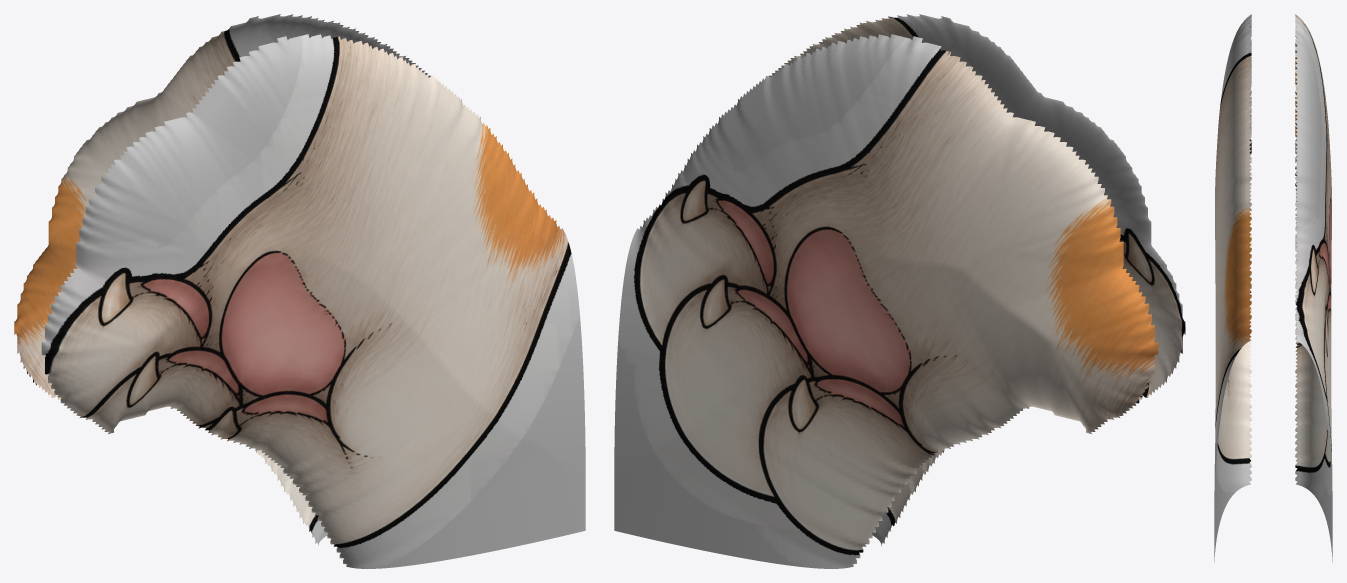
The model's file is paw_cat.glb.
3 renders of one model, left to right at view 1: azimuth 30°, elevation 25°; view 2: azimuth 150°, elevation 25°; view 3: azimuth 270°, elevation 25°, orthographic. The views are drawn at different scales.
Size of the model in its own units: 0.9765 by 0.9765 by 0.24.
Materials: 1 (1 with a texture image).
